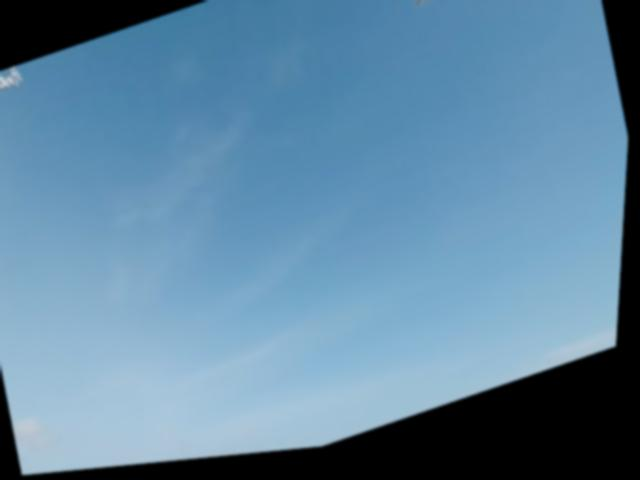uav: (407, 0, 442, 23)
